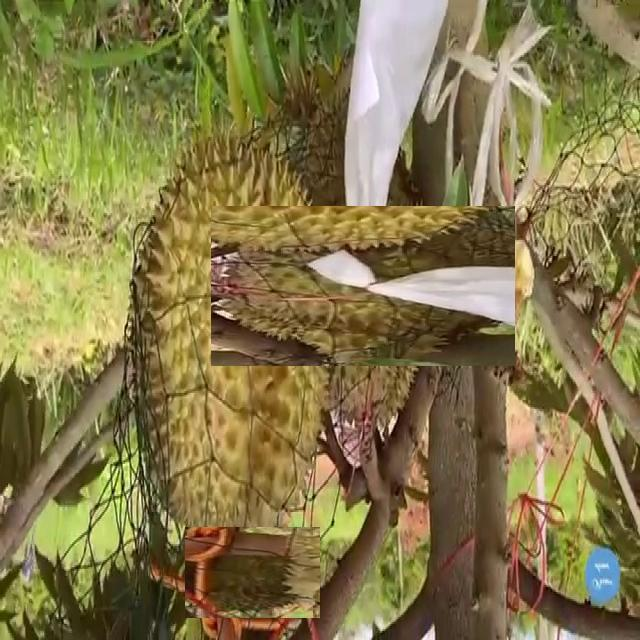durian: (119, 122, 329, 556), (247, 170, 480, 402), (196, 516, 309, 629)
